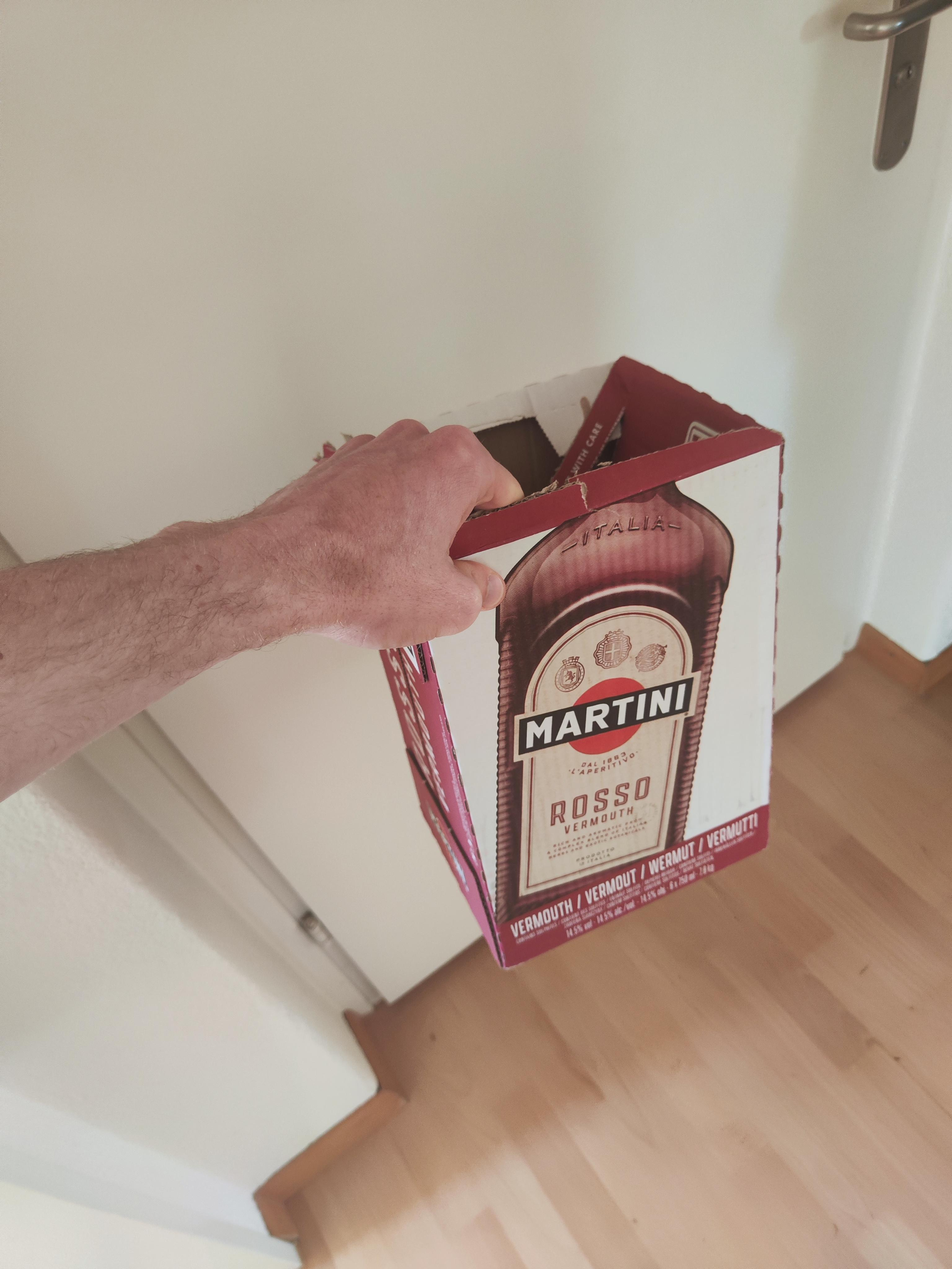Cardboard: (299, 352, 781, 966)
